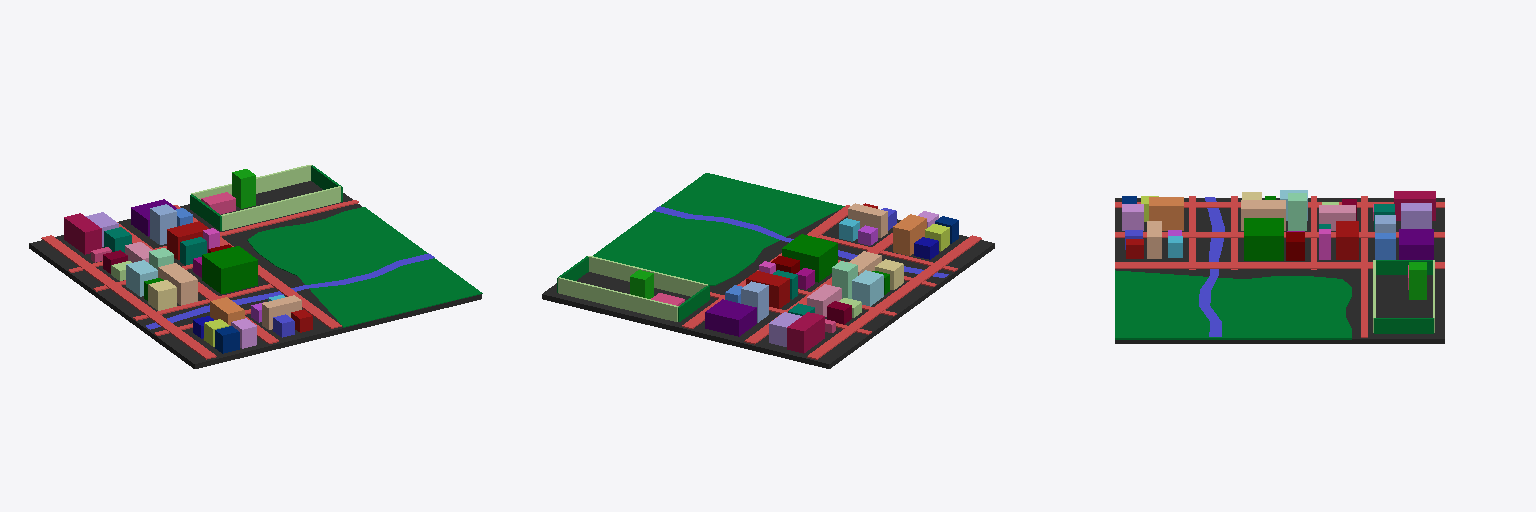
Rendered from city_topdown.obj.
The picture shows the model from 3 angles: view 1: azimuth 30°, elevation 25°; view 2: azimuth 150°, elevation 25°; view 3: azimuth 270°, elevation 25°; orthographic projection.
Parts seen in each view (by area): view 1: Box033, Box001, Box009, Box027, Box036, Box032, Box028, Box047, Box006, Box035, Box031, Box015 (+12 smaller); view 2: Box033, Box001, Box028, Box036, Box009, Box027, Box016, Box047, Box007, Box032, Box043, Box014 (+9 smaller); view 3: Box033, Box001, Box035, Box009, Box032, Box016, Box007, Box029, Box014, Box006, Box037, Box002 (+11 smaller).
Part boxes in pixels (left/top/right/bottom): Box033: left=247, top=207, right=482, bottom=327; Box001: left=29, top=181, right=481, bottom=368; Box009: left=202, top=246, right=257, bottom=293; Box027: left=221, top=186, right=340, bottom=230; Box036: left=41, top=235, right=216, bottom=359; Box032: left=146, top=253, right=434, bottom=329; Box028: left=191, top=165, right=311, bottom=199; Box047: left=64, top=213, right=101, bottom=254; Box006: left=158, top=263, right=197, bottom=305; Box035: left=173, top=205, right=341, bottom=328; Box031: left=232, top=169, right=255, bottom=208; Box015: left=150, top=204, right=176, bottom=244; Box033: left=593, top=173, right=844, bottom=285; Box001: left=542, top=209, right=994, bottom=368; Box028: left=558, top=277, right=678, bottom=321; Box036: left=807, top=235, right=981, bottom=359; Box009: left=782, top=234, right=837, bottom=282; Box027: left=588, top=256, right=707, bottom=296; Box016: left=705, top=299, right=756, bottom=336; Box047: left=787, top=312, right=824, bottom=353; Box007: left=893, top=214, right=926, bottom=255; Box032: left=653, top=206, right=948, bottom=277; Box043: left=852, top=270, right=883, bottom=306; Box014: left=746, top=271, right=789, bottom=308; Box033: left=1115, top=270, right=1351, bottom=339; Box001: left=1115, top=198, right=1444, bottom=343; Box035: left=1115, top=262, right=1444, bottom=268; Box009: left=1244, top=218, right=1283, bottom=260; Box032: left=1199, top=197, right=1224, bottom=336; Box016: left=1399, top=229, right=1433, bottom=259; Box007: left=1149, top=197, right=1183, bottom=230; Box029: left=1374, top=318, right=1433, bottom=333; Box014: left=1336, top=221, right=1358, bottom=259; Box006: left=1241, top=200, right=1285, bottom=230; Box037: left=1361, top=196, right=1367, bottom=337; Box002: left=1401, top=203, right=1431, bottom=228.
Size of the model in its own units: 1814 by 213 by 1803.